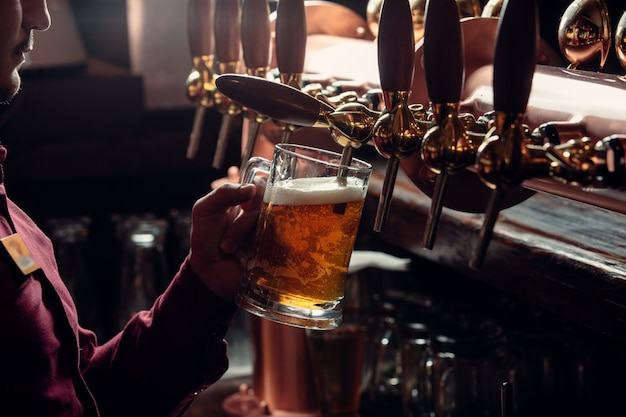alcohol: (232, 142, 375, 329)
